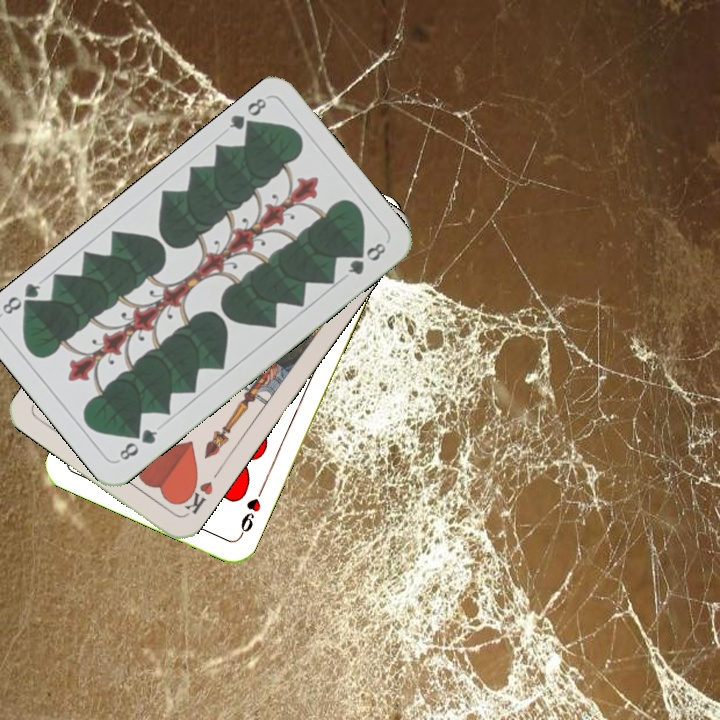G8: (224, 93, 270, 137), (115, 424, 161, 463)
H9: (235, 484, 266, 540)
HK: (175, 475, 216, 519)
